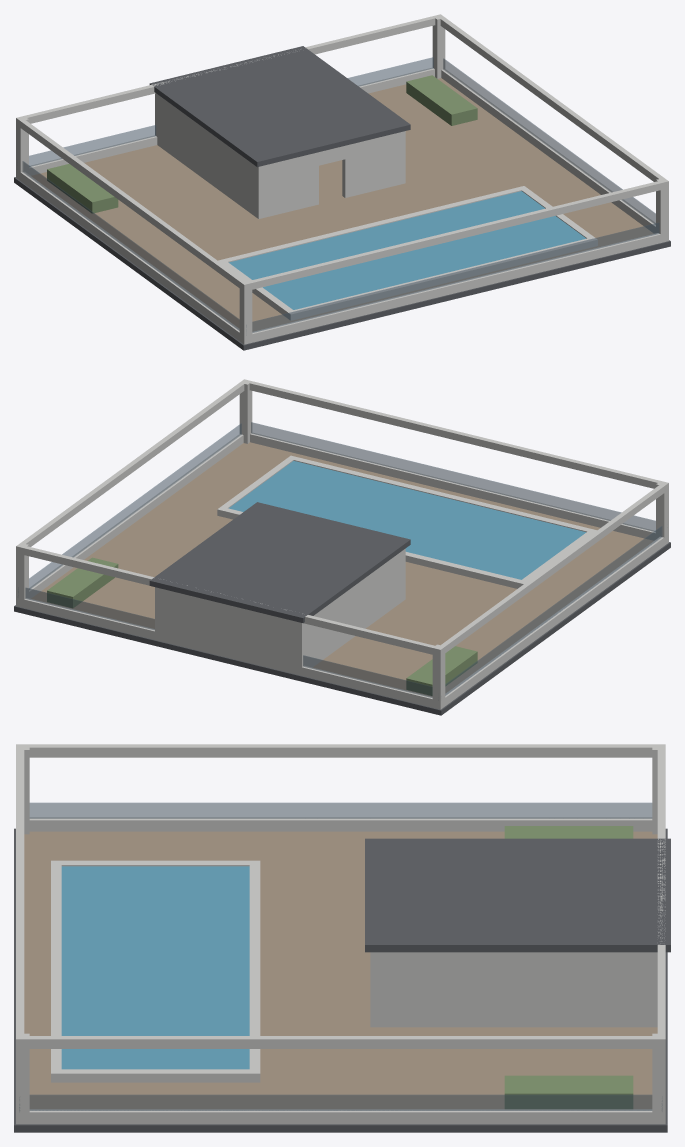
Rendered from condo-roof-b.skyline-v4.lod1.glb.
3 renders of one model, top to bottom at view 1: azimuth 30°, elevation 25°; view 2: azimuth 150°, elevation 25°; view 3: azimuth 270°, elevation 25°, orthographic. The views are drawn at different scales.
Parts seen in each view (by area): view 1: condo-roof-b; view 2: condo-roof-b; view 3: condo-roof-b.
Boxes of the visible parts, x1=… form: condo-roof-b: x1=14, y1=14, x2=670, y2=350; condo-roof-b: x1=14, y1=379, x2=670, y2=715; condo-roof-b: x1=14, y1=744, x2=670, y2=1132.
Size of the model in its own units: 26.16 by 3.8 by 24.48.
